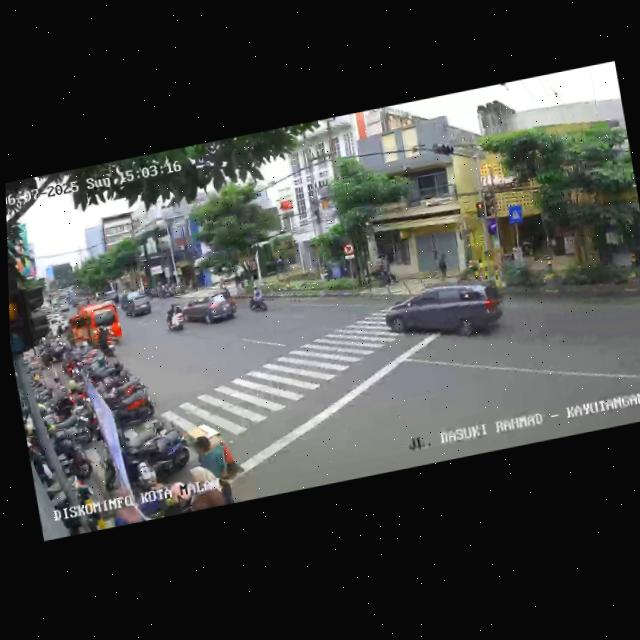car: (382, 269, 510, 357), (169, 283, 240, 335), (66, 298, 125, 356), (120, 289, 155, 322)
motorcycle: (162, 299, 189, 338), (247, 285, 271, 316)
